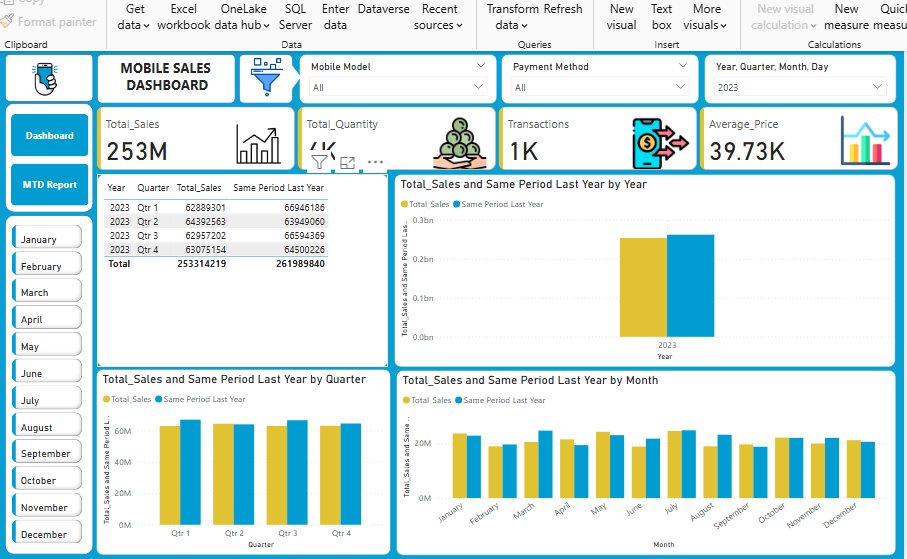

The dashboard page shown, as its layout file describes it:
{"tool":"powerbi","page":{"name":"Same Period Last Year","canvas":[1280,720],"ordinal":2},"visuals":[{"type":"shape","box":[7.5,3.8,125,67.5],"z":0},{"type":"image","box":[23.8,3.8,78.8,71.2],"z":1000},{"type":"shape","box":[7.5,73.8,125,155],"z":2000},{"type":"cardVisual","fields":{"Data":["Sales_Data.Total_Sales","Sales_Data.Total_Quantity","Sales_Data.Transactions","Sales_Data.Average_Price"]},"box":[132.5,73.8,1147.5,100],"z":3000},{"type":"slicer","fields":{"Values":["Sales_Data.Mobile Model"]},"box":[423.8,3.8,281.2,71.2],"z":4000},{"type":"slicer","fields":{"Values":["Sales_Data.Payment Method"]},"box":[710,3.8,281.2,71.2],"z":5000},{"type":"slicer","fields":{"Values":["Custom_Calendar.Date.Variation.Date Hierarchy.Year","Custom_Calendar.Date.Variation.Date Hierarchy.Quarter","Custom_Calendar.Date.Variation.Date Hierarchy.Month","Custom_Calendar.Date.Variation.Date Hierarchy.Day"]},"box":[997.5,3.8,272.5,71.2],"z":6000},{"type":"shape","box":[338.8,3.8,76.2,70],"z":7000},{"type":"image","box":[337.5,3.8,81.2,66.2],"z":8000},{"type":"shape","box":[397.5,17.5,30,40],"z":9000},{"type":"shape","box":[137.5,3.8,196.2,70],"z":10000},{"type":"textbox","box":[156.2,6.2,162.5,63.8],"z":11000},{"type":"shape","box":[7.5,232.5,125,481.2],"z":12000},{"type":"advancedSlicerVisual","fields":{"Values":["Custom_Calendar.Date.Variation.Date Hierarchy.Month"]},"box":[11.2,241.2,110,472.5],"z":13000},{"type":"tableEx","fields":{"Values":["Custom_Calendar.Date.Variation.Date Hierarchy.Year","Custom_Calendar.Date.Variation.Date Hierarchy.Quarter","Sales_Data.Total_Sales","Sales_Data.Same Period Last Year"]},"box":[137.5,173.8,412.5,273.8],"z":14000},{"type":"clusteredColumnChart","fields":{"Category":["Custom_Calendar.Date.Variation.Date Hierarchy.Year","Custom_Calendar.Date.Variation.Date Hierarchy.Quarter"],"Y":["Sales_Data.Total_Sales","Sales_Data.Same Period Last Year"]},"box":[558.8,173.8,711.2,273.8],"z":15000},{"type":"clusteredColumnChart","fields":{"Y":["Sales_Data.Total_Sales","Sales_Data.Same Period Last Year"],"Category":["Custom_Calendar.Date.Variation.Date Hierarchy.Year","Custom_Calendar.Date.Variation.Date Hierarchy.Quarter","Custom_Calendar.Date.Variation.Date Hierarchy.Month","Custom_Calendar.Date.Variation.Date Hierarchy.Day"]},"box":[561.2,452.5,708.8,262.5],"z":16000},{"type":"clusteredColumnChart","fields":{"Category":["Custom_Calendar.Date.Variation.Date Hierarchy.Year","Custom_Calendar.Date.Variation.Date Hierarchy.Quarter"],"Y":["Sales_Data.Total_Sales","Sales_Data.Same Period Last Year"]},"box":[136.2,451.2,417.5,263.8],"z":17000},{"type":"pageNavigator","box":[15,88.8,110,130],"z":18000}]}

Visuals, with their boxes on the page's 1280x720 design canvas (x1, y1, x2, y2). These are canvas units, not pixel positions in the 907x559 screenshot, which may show the page scaled, cropped or inside an application window:
shape: <box>8,4,132,71</box>
image: <box>24,4,103,75</box>
shape: <box>8,74,132,229</box>
cardVisual - Sales_Data.Total_Sales x Sales_Data.Total_Quantity: <box>132,74,1280,174</box>
slicer - Sales_Data.Mobile Model: <box>424,4,705,75</box>
slicer - Sales_Data.Payment Method: <box>710,4,991,75</box>
slicer - Custom_Calendar.Date.Variation.Date Hierarchy.Year x Custom_Calendar.Date.Variation.Date Hierarchy.Quarter: <box>998,4,1270,75</box>
shape: <box>339,4,415,74</box>
image: <box>338,4,419,70</box>
shape: <box>398,18,428,58</box>
shape: <box>138,4,334,74</box>
textbox: <box>156,6,319,70</box>
shape: <box>8,232,132,714</box>
advancedSlicerVisual - Custom_Calendar.Date.Variation.Date Hierarchy.Month: <box>11,241,121,714</box>
tableEx - Custom_Calendar.Date.Variation.Date Hierarchy.Year x Custom_Calendar.Date.Variation.Date Hierarchy.Quarter: <box>138,174,550,448</box>
clusteredColumnChart - Custom_Calendar.Date.Variation.Date Hierarchy.Year x Custom_Calendar.Date.Variation.Date Hierarchy.Quarter: <box>559,174,1270,448</box>
clusteredColumnChart - Sales_Data.Total_Sales x Sales_Data.Same Period Last Year: <box>561,452,1270,715</box>
clusteredColumnChart - Custom_Calendar.Date.Variation.Date Hierarchy.Year x Custom_Calendar.Date.Variation.Date Hierarchy.Quarter: <box>136,451,554,715</box>
pageNavigator: <box>15,89,125,219</box>
